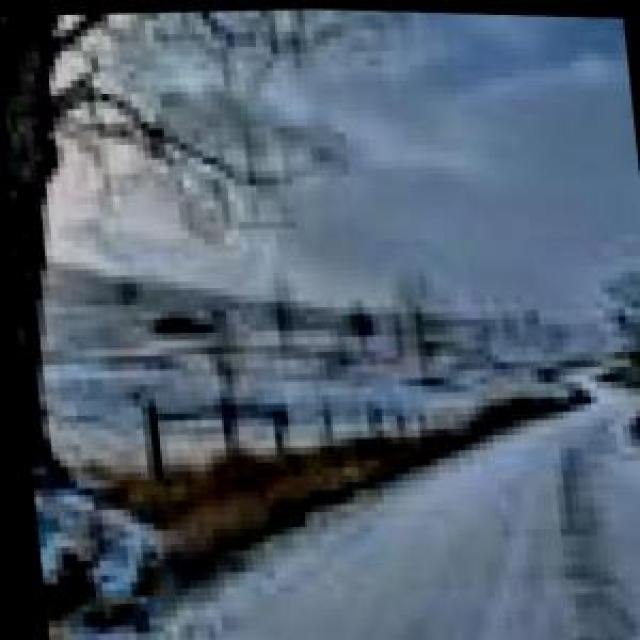ice-road: (82, 371, 640, 640)
